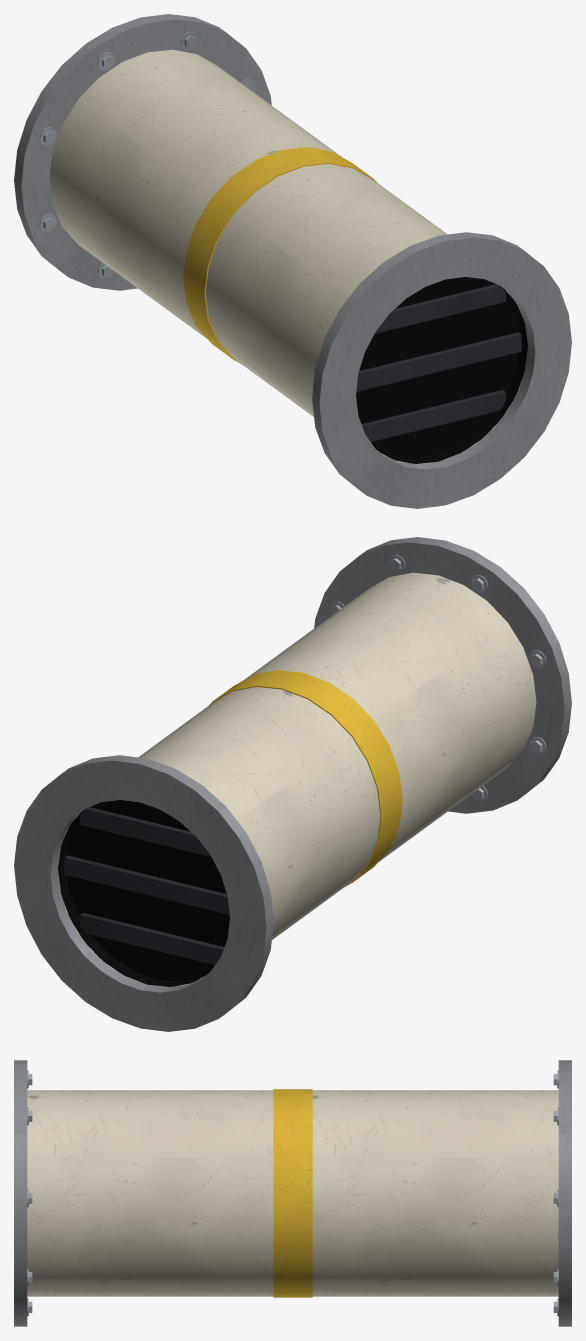
File: large_pipe_long.glb
3 views of the same model, one above another, from view 1: azimuth 30°, elevation 25°; view 2: azimuth 150°, elevation 25°; view 3: azimuth 270°, elevation 25° (orthographic). The views are drawn at different scales.
Parts seen in each view (by area): view 1: Body.001; view 2: Body.001; view 3: Body.001.
Part boxes in pixels (x1=…): Body.001: x1=14, y1=14, x2=571, y2=508; Body.001: x1=14, y1=537, x2=571, y2=1031; Body.001: x1=14, y1=1060, x2=571, y2=1326.
Bounding box in the file's own units: 0.476 × 0.476 × 0.997.
Materials: 6 (5 with a texture image).
